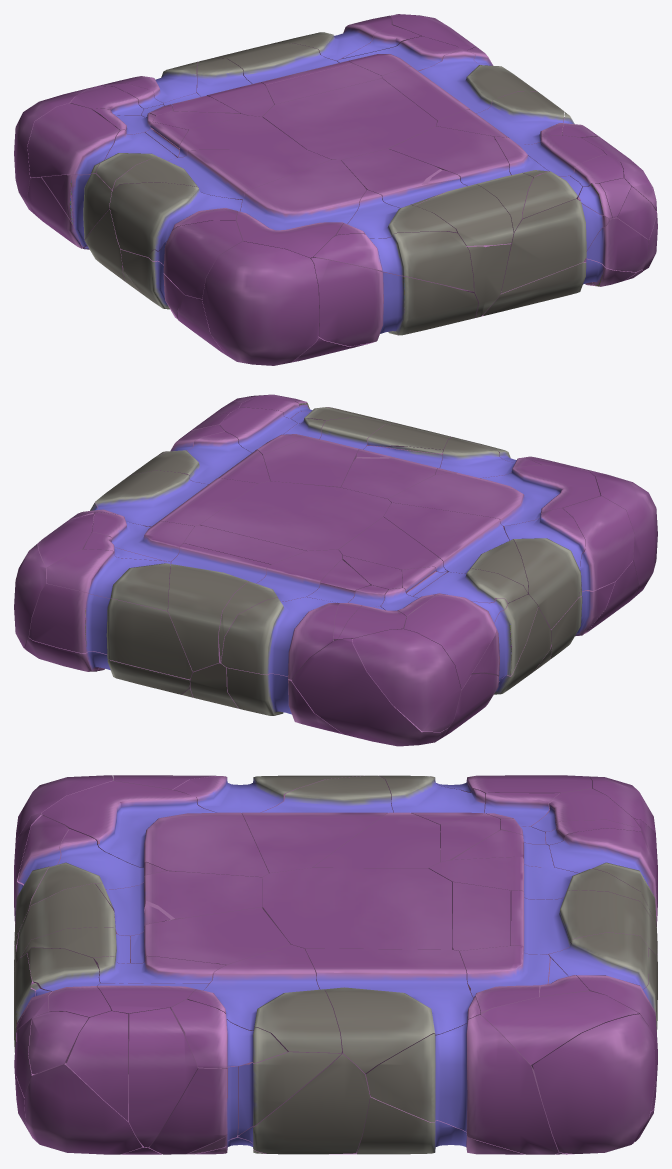
Rendered from arena block 6 broken.fbx.
3 renders of one model, top to bottom at view 1: azimuth 30°, elevation 25°; view 2: azimuth 150°, elevation 25°; view 3: azimuth 270°, elevation 25°, orthographic. The views are drawn at different scales.
Visible parts, largest first — view 1: arena block 6 lp_cell.068, arena block 6 lp_cell.088, arena block 6 lp_cell.006, arena block 6 lp_cell.014, arena block 6 lp_cell.072, arena block 6 lp_cell.060, arena block 6 lp_cell.047, arena block 6 lp_cell.064, arena block 6 lp_cell.059, arena block 6 lp_cell.094, arena block 6 lp_cell.098, arena block 6 lp_cell.062 (+37 smaller); view 2: arena block 6 lp_cell.097, arena block 6 lp_cell.006, arena block 6 lp_cell.014, arena block 6 lp_cell.017, arena block 6 lp_cell.035, arena block 6 lp_cell.063, arena block 6 lp_cell.033, arena block 6 lp_cell.072, arena block 6 lp_cell.094, arena block 6 lp_cell.060, arena block 6 lp_cell.021, arena block 6 lp_cell.098 (+36 smaller); view 3: arena block 6 lp_cell.038, arena block 6 lp_cell.006, arena block 6 lp_cell.094, arena block 6 lp_cell.014, arena block 6 lp_cell.015, arena block 6 lp_cell.076, arena block 6 lp_cell.072, arena block 6 lp_cell.061, arena block 6 lp_cell.027, arena block 6 lp_cell.063, arena block 6 lp_cell.066, arena block 6 lp_cell.064 (+42 smaller).
Part boxes in pixels (x1,y1,x2,y2): arena block 6 lp_cell.068: (202, 241, 319, 365); arena block 6 lp_cell.088: (311, 257, 478, 346); arena block 6 lp_cell.006: (262, 78, 437, 160); arena block 6 lp_cell.014: (236, 160, 366, 258); arena block 6 lp_cell.072: (112, 149, 331, 200); arena block 6 lp_cell.060: (109, 182, 242, 257); arena block 6 lp_cell.047: (314, 231, 473, 291); arena block 6 lp_cell.064: (341, 149, 511, 317); arena block 6 lp_cell.059: (501, 199, 609, 293); arena block 6 lp_cell.094: (382, 50, 537, 121); arena block 6 lp_cell.098: (27, 103, 119, 177); arena block 6 lp_cell.062: (389, 126, 510, 185); arena block 6 lp_cell.097: (29, 583, 192, 679); arena block 6 lp_cell.006: (200, 481, 391, 550); arena block 6 lp_cell.014: (388, 465, 600, 527); arena block 6 lp_cell.017: (291, 639, 447, 746); arena block 6 lp_cell.035: (352, 629, 461, 731); arena block 6 lp_cell.063: (168, 543, 270, 671); arena block 6 lp_cell.033: (221, 597, 339, 679); arena block 6 lp_cell.072: (383, 502, 528, 594); arena block 6 lp_cell.094: (93, 470, 258, 526); arena block 6 lp_cell.060: (503, 508, 585, 629); arena block 6 lp_cell.021: (46, 549, 170, 612); arena block 6 lp_cell.098: (404, 595, 507, 689); arena block 6 lp_cell.038: (366, 1014, 558, 1154); arena block 6 lp_cell.006: (262, 868, 452, 949); arena block 6 lp_cell.094: (305, 948, 480, 1076); arena block 6 lp_cell.014: (41, 781, 268, 885); arena block 6 lp_cell.015: (532, 1014, 655, 1153); arena block 6 lp_cell.076: (187, 944, 341, 1053); arena block 6 lp_cell.072: (241, 775, 393, 873); arena block 6 lp_cell.061: (237, 1054, 369, 1154); arena block 6 lp_cell.027: (24, 1062, 142, 1154); arena block 6 lp_cell.063: (510, 890, 657, 979); arena block 6 lp_cell.066: (129, 1007, 197, 1147); arena block 6 lp_cell.064: (14, 871, 262, 991).
Bounding box in the file's own units: 200 × 50 × 200.
